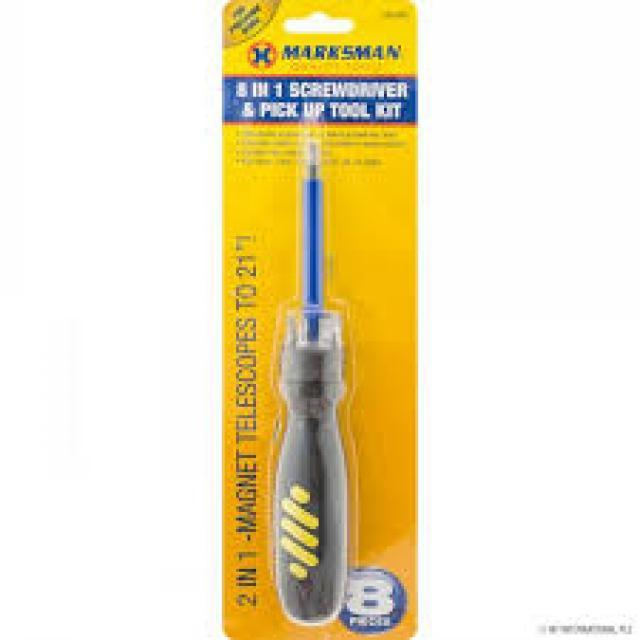screwdriver: (273, 130, 350, 630)
